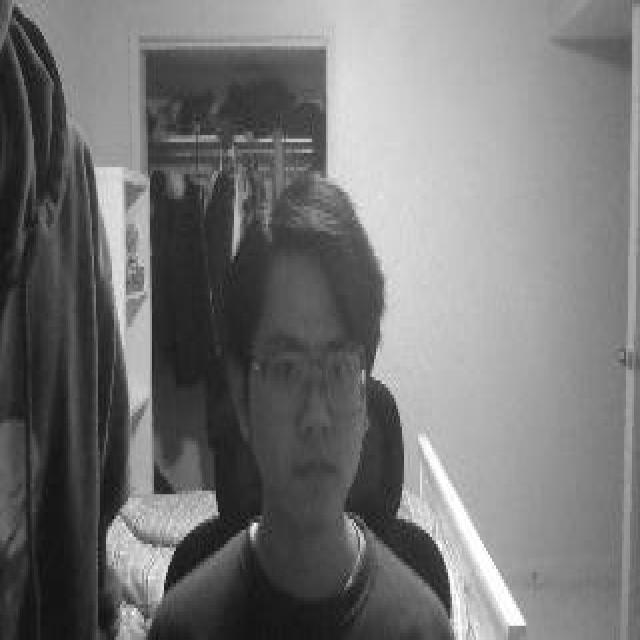Focused: (256, 309, 370, 508)
